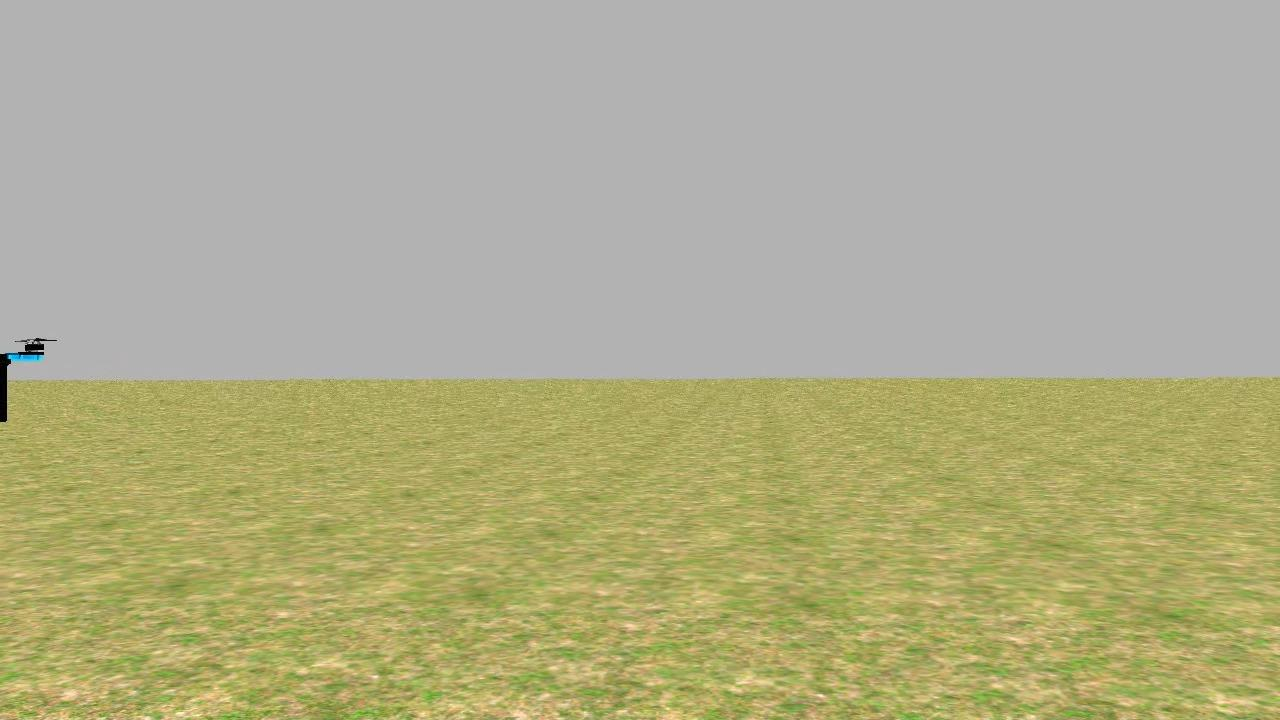UAV: (0, 310, 55, 429)
